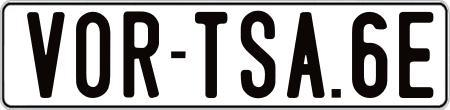0: (74, 12, 114, 101)
6: (351, 10, 389, 97)
A: (286, 12, 327, 98)
E: (398, 11, 433, 98)
R: (120, 9, 159, 97)
S: (240, 11, 278, 102)
T: (195, 11, 227, 99)
V: (25, 9, 63, 97)
